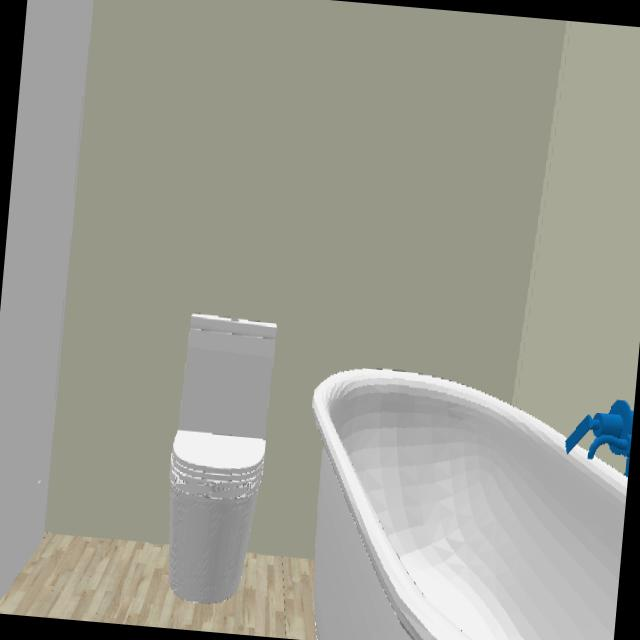bathtube: (310, 368, 627, 640)
toilet: (169, 313, 278, 606)
